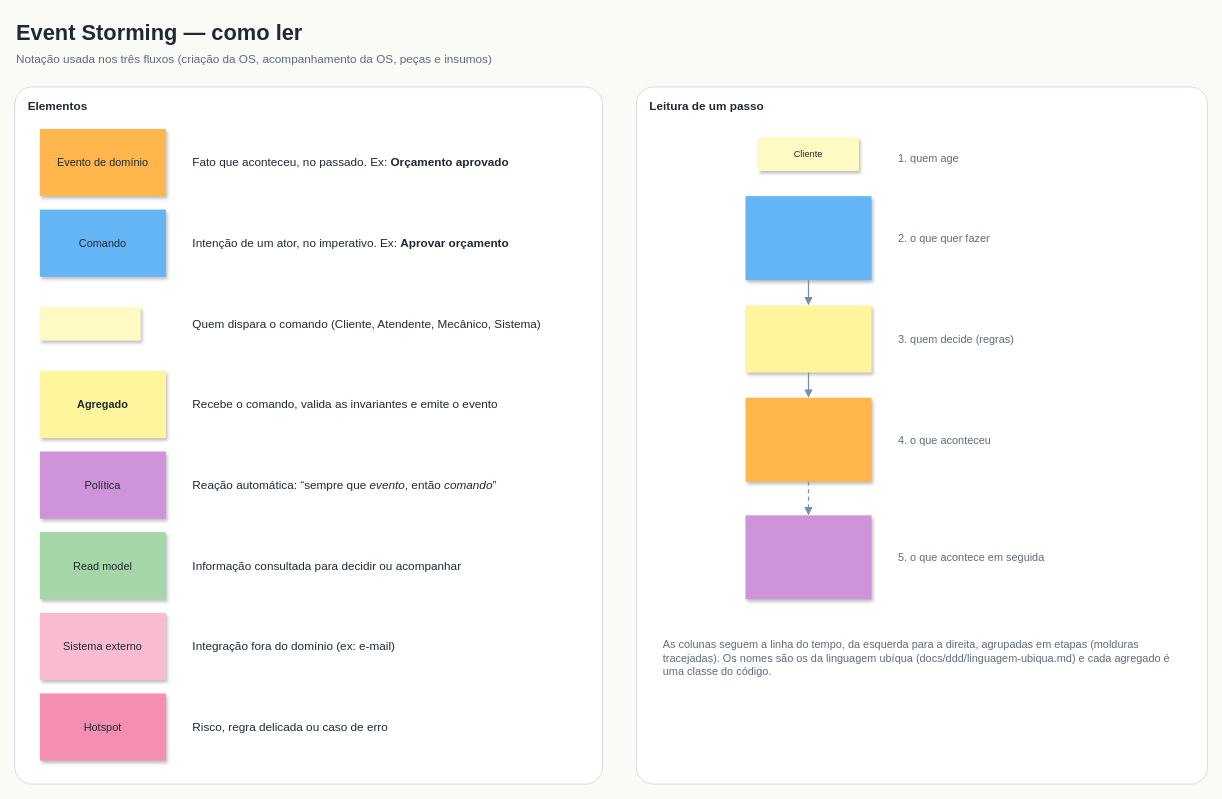
Some shapes in this 1222 by 799 pixel diagram are drawn without their labels. Here are the shapes that lost their labels. From the top down, the centre of each, then its label:
(x=809, y=239): Aprovar orçamento
(x=90, y=324): Ator
(x=809, y=340): ServiceOrder
(x=809, y=440): Orçamento aprovado Em execução
(x=809, y=558): Ao aprovar → baixar estoque na mesma transação
